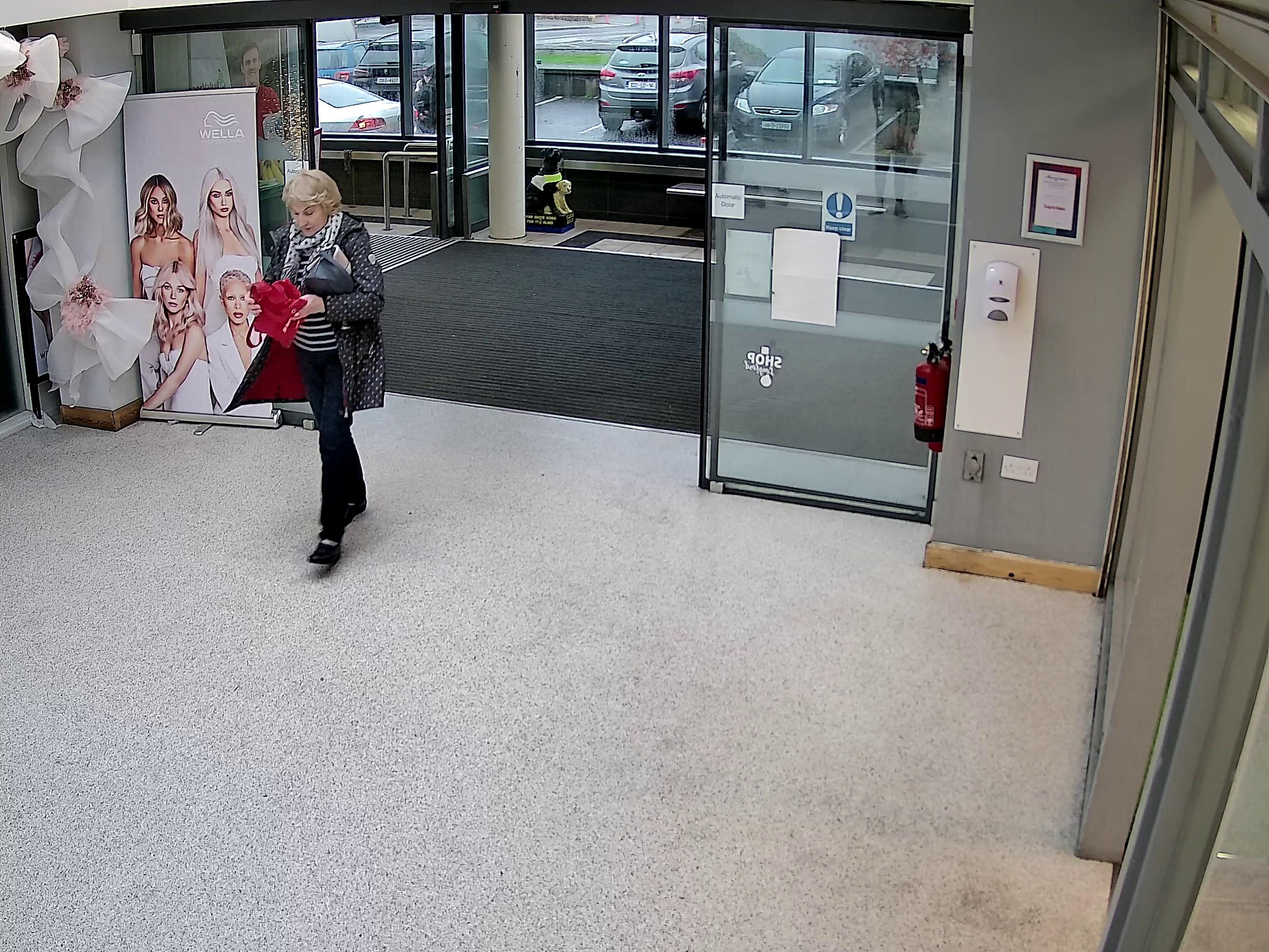backpack-or-handbag: (302, 239, 356, 297)
empty-shopping-bags: (245, 274, 306, 349)
person: (243, 169, 384, 565)
person-with-backpack-handbag-and-shopping-bag-s-: (243, 169, 384, 563)
